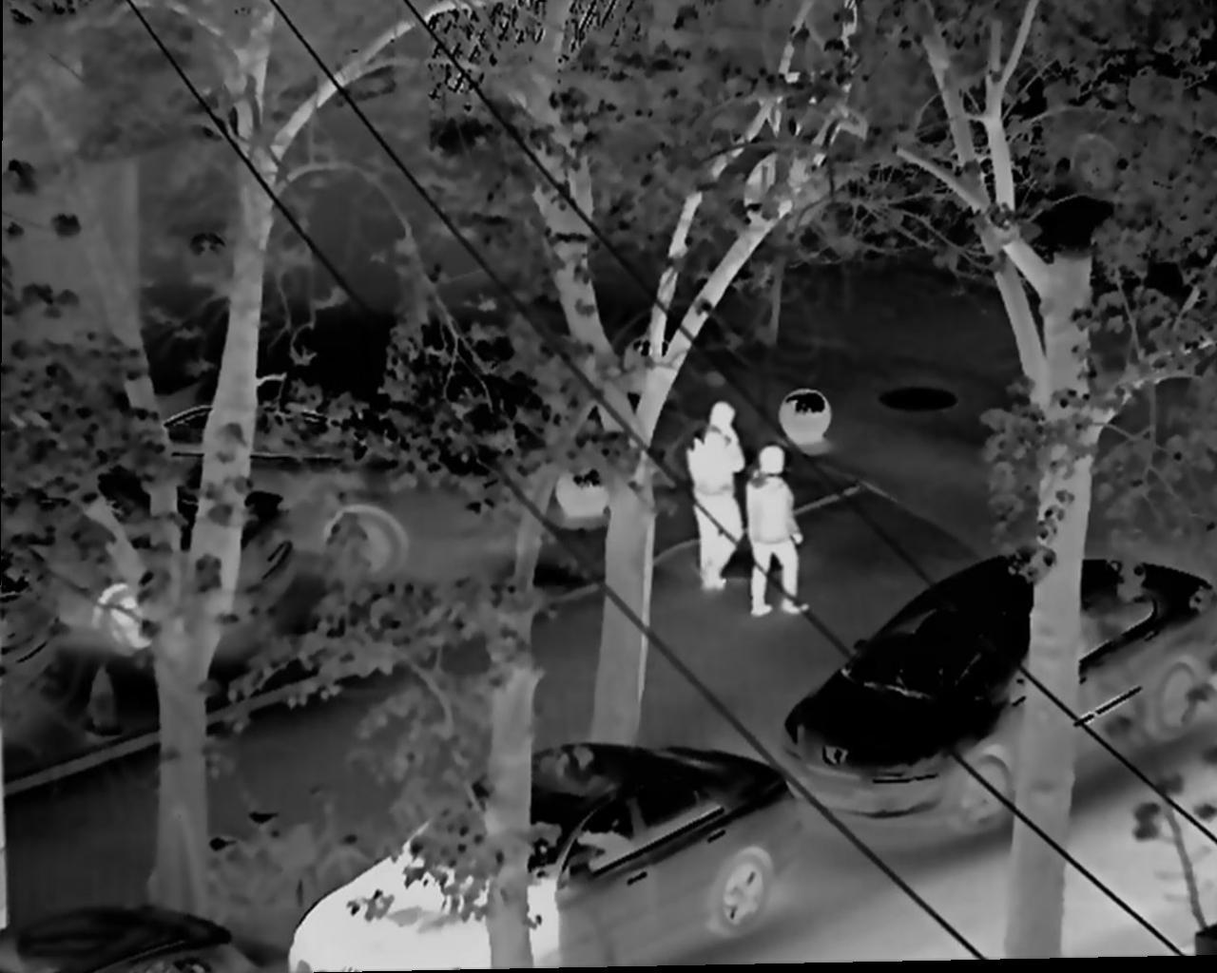person: (735, 433, 812, 615), (686, 394, 745, 592)
